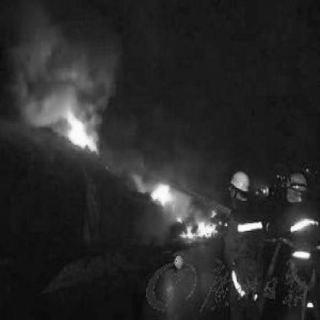Fire: (60, 103, 98, 153), (178, 207, 220, 239), (146, 173, 174, 205)
Smoke: (21, 31, 103, 103)
other: (285, 166, 307, 194), (288, 217, 316, 231), (235, 218, 262, 232)
